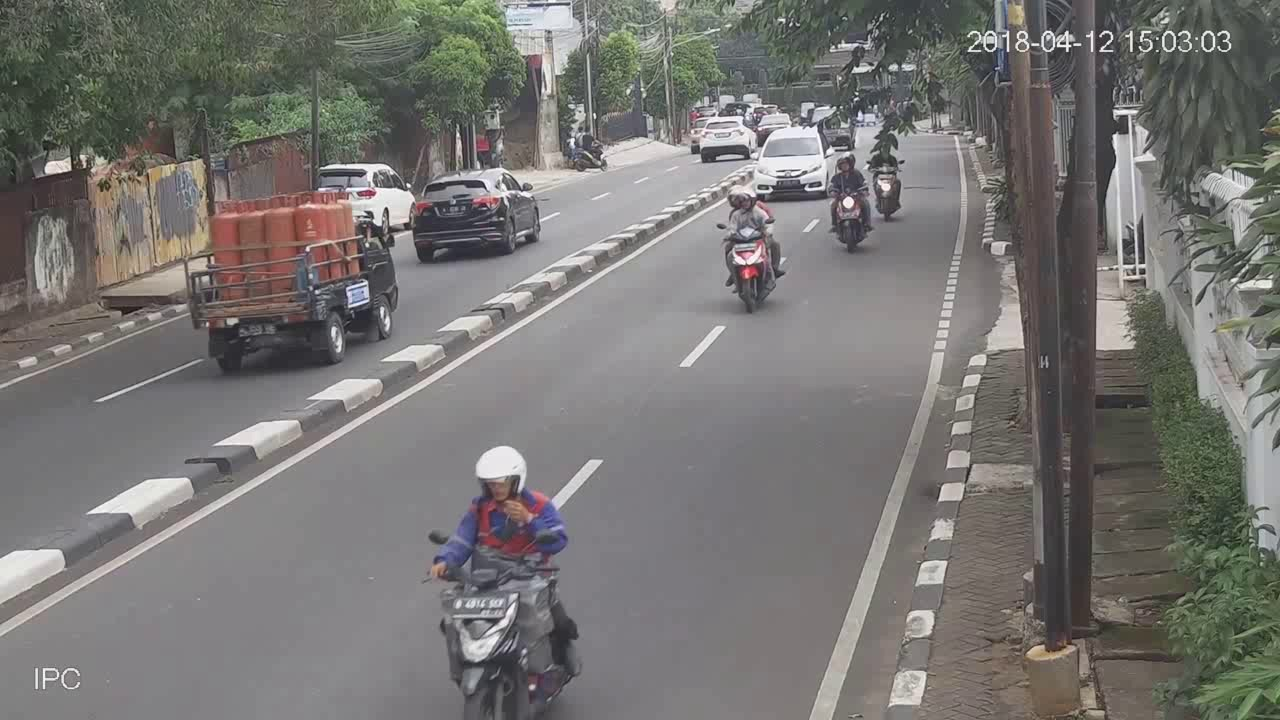car: (412, 159, 541, 268), (757, 132, 826, 200), (700, 114, 751, 166)
motorcycle: (408, 442, 599, 720), (716, 181, 792, 322), (830, 146, 874, 257), (866, 134, 911, 223)
truck: (191, 199, 410, 368)
